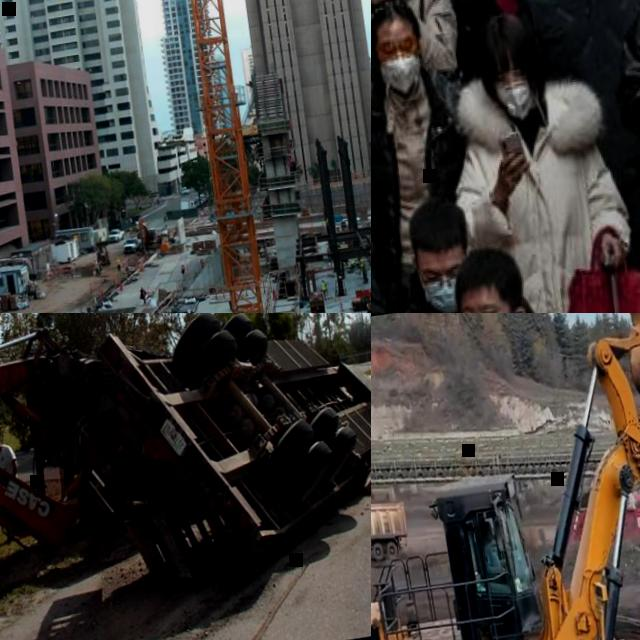Hardhat: (182, 264, 185, 266)
Mask: (380, 53, 426, 99), (419, 273, 463, 313), (497, 85, 536, 124)
NO-Hardhat: (454, 246, 531, 306), (404, 196, 471, 261), (472, 9, 536, 76), (371, 0, 419, 39), (483, 520, 493, 531)
NO-Mask: (0, 448, 3, 454)
NO-Safety Vest: (473, 117, 617, 313), (521, 0, 640, 201), (452, 0, 527, 48), (485, 542, 504, 579), (0, 446, 13, 472)
Person: (433, 0, 640, 313), (501, 0, 640, 313), (371, 0, 486, 313), (371, 0, 481, 219), (400, 234, 613, 313), (576, 66, 640, 313), (371, 194, 494, 313), (432, 0, 577, 93), (587, 0, 640, 187), (0, 430, 28, 544), (479, 518, 509, 580), (359, 260, 371, 286), (320, 280, 329, 301), (140, 287, 148, 305), (180, 263, 188, 276), (116, 258, 123, 272), (272, 290, 278, 303)
Safety Cone: (113, 276, 118, 286), (120, 282, 125, 291), (99, 292, 103, 303), (90, 283, 94, 294)
Safety Vest: (362, 263, 368, 272), (322, 283, 327, 291), (118, 260, 122, 266), (273, 293, 277, 299)
vehicle: (0, 313, 371, 620), (371, 313, 640, 640), (566, 481, 640, 552), (371, 475, 417, 580), (134, 212, 163, 257), (95, 241, 112, 268), (123, 237, 143, 255), (108, 228, 126, 244)
